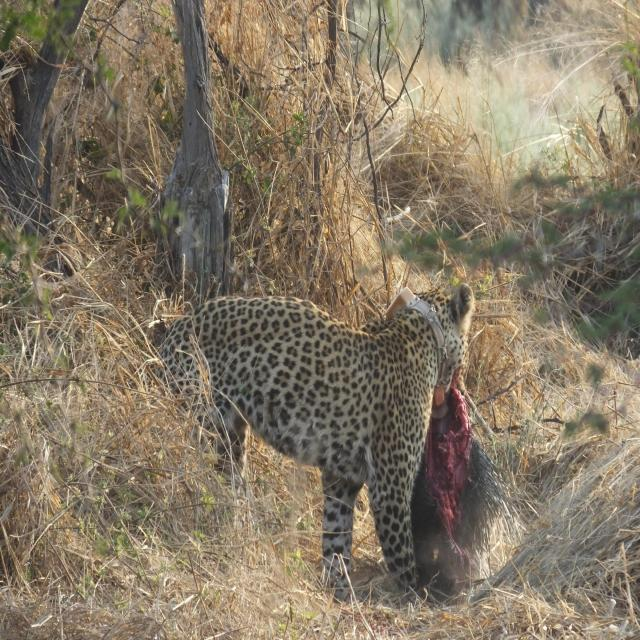Leopard: (138, 278, 482, 610)
